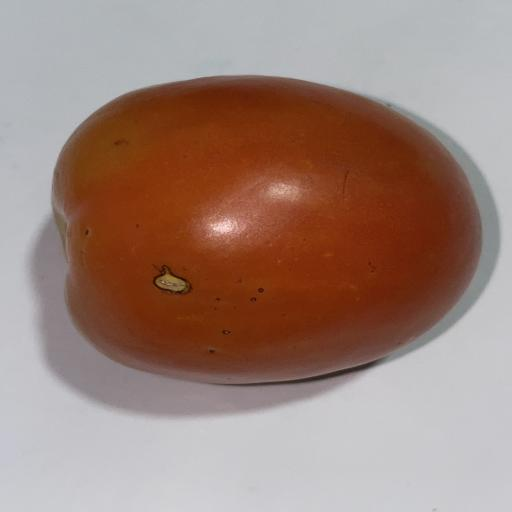unripe: (52, 76, 481, 384)
